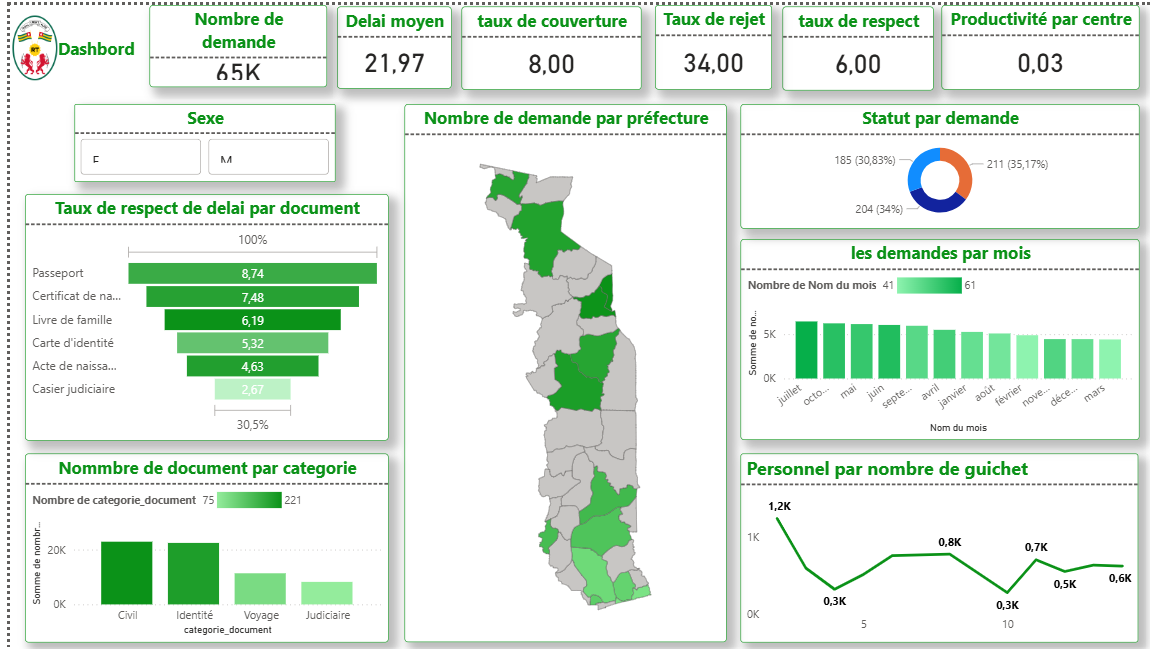

The dashboard page shown, as its layout file describes it:
{"tool":"powerbi","page":{"name":"Page 1","canvas":[1280,720],"ordinal":0},"visuals":[{"type":"clusteredColumnChart","title":"Nommbre de document par categorie","fields":{"Category":["demandes_service_public.categorie_document"],"Y":["Sum(demandes_service_public.nombre_demandes)"]},"box":[16,498,404,210],"z":0},{"type":"advancedSlicerVisual","title":"Sexe","fields":{"Values":["demandes_service_public.sexe_demandeur"]},"box":[72.2,110,290,86.7],"z":1},{"type":"shapeMap","title":"Nombre de demande par préfecture","fields":{"Category":["demandes_service_public.prefecture"],"Value":["Sum(demandes_service_public.nombre_demandes)"]},"box":[438,110,358,598],"z":2},{"type":"card","title":"Delai moyen","fields":{"Values":["centres_service.Delai_Moyen"]},"box":[362.9,1.4,127.1,91.4],"z":3},{"type":"card","title":"Nombre de demande","fields":{"Values":["Sum(demandes_service_public.nombre_demandes)"]},"box":[141.7,0,210,91.7],"z":4},{"type":"card","title":"taux de couverture","fields":{"Values":["demandes_service_public.Taux_Couverture"]},"box":[501.4,1.4,200,92.9],"z":5},{"type":"card","title":"taux de respect ","fields":{"Values":["centres_service.Taux_Respect_Delai"]},"box":[858,1,168,93],"z":6},{"type":"card","title":"Taux de rejet","fields":{"Values":["demandes_service_public.Taux_Rejet-"]},"box":[717.1,0,130,94.3],"z":8},{"type":"card","title":"Productivité par centre","fields":{"Values":["centres_service.Productivite_Centre"]},"box":[1034.3,0,220,94.3],"z":9},{"type":"donutChart","title":"Statut par demande","fields":{"Category":["demandes_service_public.statut_demande"],"Y":["CountNonNull(demandes_service_public.statut_demande)"]},"box":[811.7,110,443.3,138.3],"z":11},{"type":"lineChart","title":"Personnel par nombre de guichet","fields":{"Category":["centres_service.nombre_guichets"],"Y":["Sum(centres_service.personnel_capacite_jour)"]},"box":[811.7,498.3,441.7,210],"z":12},{"type":"funnel","title":"Taux de respect de delai par document","fields":{"Category":["demandes_service_public.type_document"],"Y":["centres_service.Taux_Respect_Delai"]},"box":[16,210,404,274],"z":13},{"type":"image","box":[0,11.7,55,71.7],"z":14},{"type":"textbox","box":[36.7,30,118.3,53.3],"z":15},{"type":"clusteredColumnChart","title":"les demandes par mois","fields":{"Category":["demandes_service_public.Nom du mois"],"Y":["Sum(demandes_service_public.nombre_demandes)"]},"box":[811.7,260,443.3,223.3],"z":16}]}

Visuals, with their boxes in screenshot pixels (x1, y1, x2, y2), scaled from the page's 1280x720 canvas onto the 1150x649 screenshot:
"Nommbre de document par categorie" clusteredColumnChart: locate(14, 449, 377, 638)
"Sexe" advancedSlicerVisual: locate(65, 99, 325, 177)
"Nombre de demande par préfecture" shapeMap: locate(394, 99, 715, 638)
"Delai moyen" card: locate(326, 1, 440, 84)
"Nombre de demande" card: locate(127, 0, 316, 83)
"taux de couverture" card: locate(450, 1, 630, 85)
"taux de respect " card: locate(771, 1, 922, 85)
"Taux de rejet" card: locate(644, 0, 761, 85)
"Productivité par centre" card: locate(929, 0, 1127, 85)
"Statut par demande" donutChart: locate(729, 99, 1128, 224)
"Personnel par nombre de guichet" lineChart: locate(729, 449, 1126, 638)
"Taux de respect de delai par document" funnel: locate(14, 189, 377, 436)
image: locate(0, 11, 49, 75)
textbox: locate(33, 27, 139, 75)
"les demandes par mois" clusteredColumnChart: locate(729, 234, 1128, 436)
